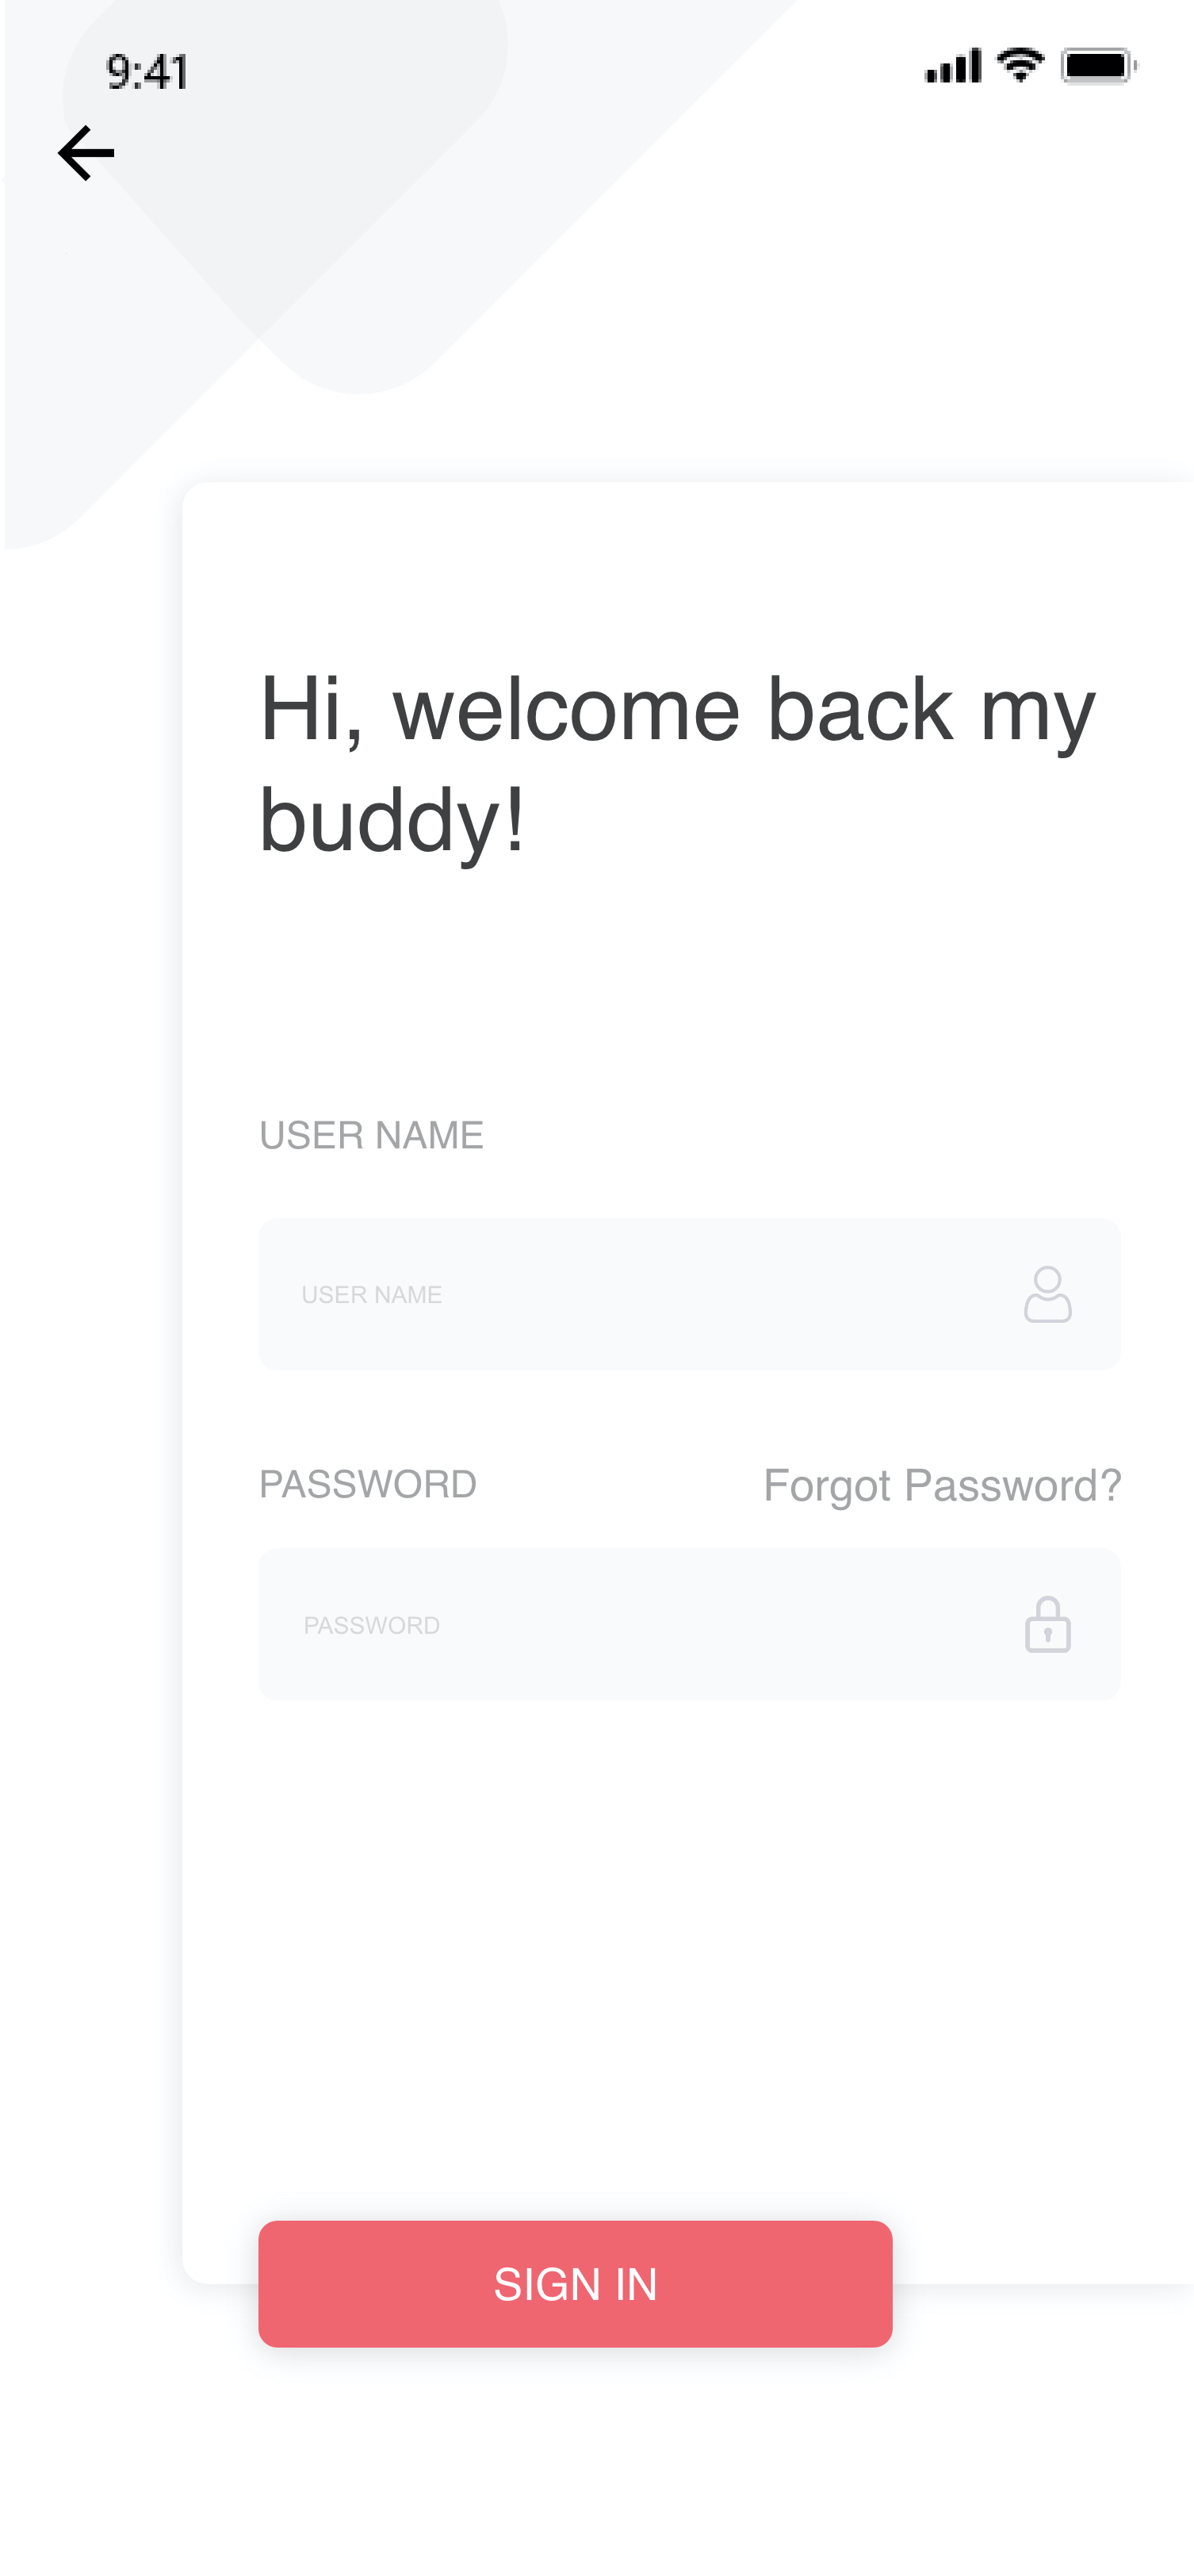EditText: (259, 1548, 1122, 1702), (258, 1219, 1122, 1372)
Icon: (57, 125, 115, 182), (1023, 1265, 1072, 1324), (1025, 1595, 1072, 1654)
Text: (263, 675, 1097, 871), (765, 1469, 1122, 1511), (261, 1120, 483, 1150), (261, 1469, 478, 1498), (302, 1286, 442, 1304), (304, 1617, 440, 1635)
TextButton: (258, 2221, 893, 2348)
UpperTaskBar: (107, 46, 1143, 92)
